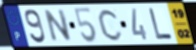4: (131, 8, 148, 42)
5: (73, 6, 98, 45)
9: (25, 9, 47, 44)
C: (97, 8, 125, 43)
L: (148, 7, 175, 41)
N: (43, 9, 73, 44)
